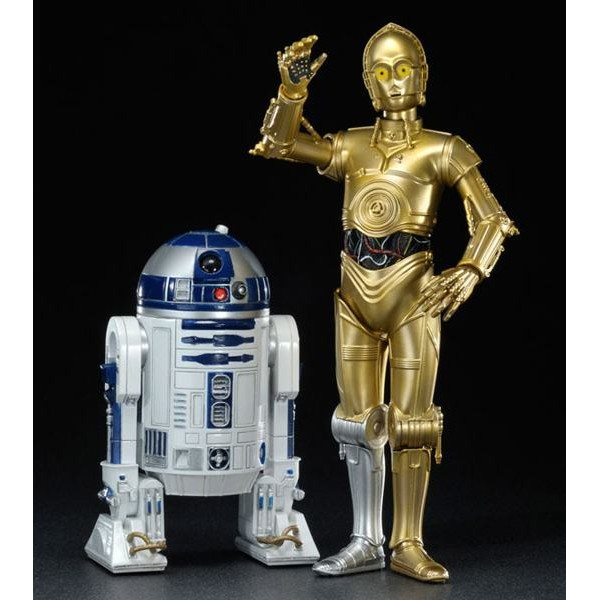r2d2: (92, 230, 315, 564)
